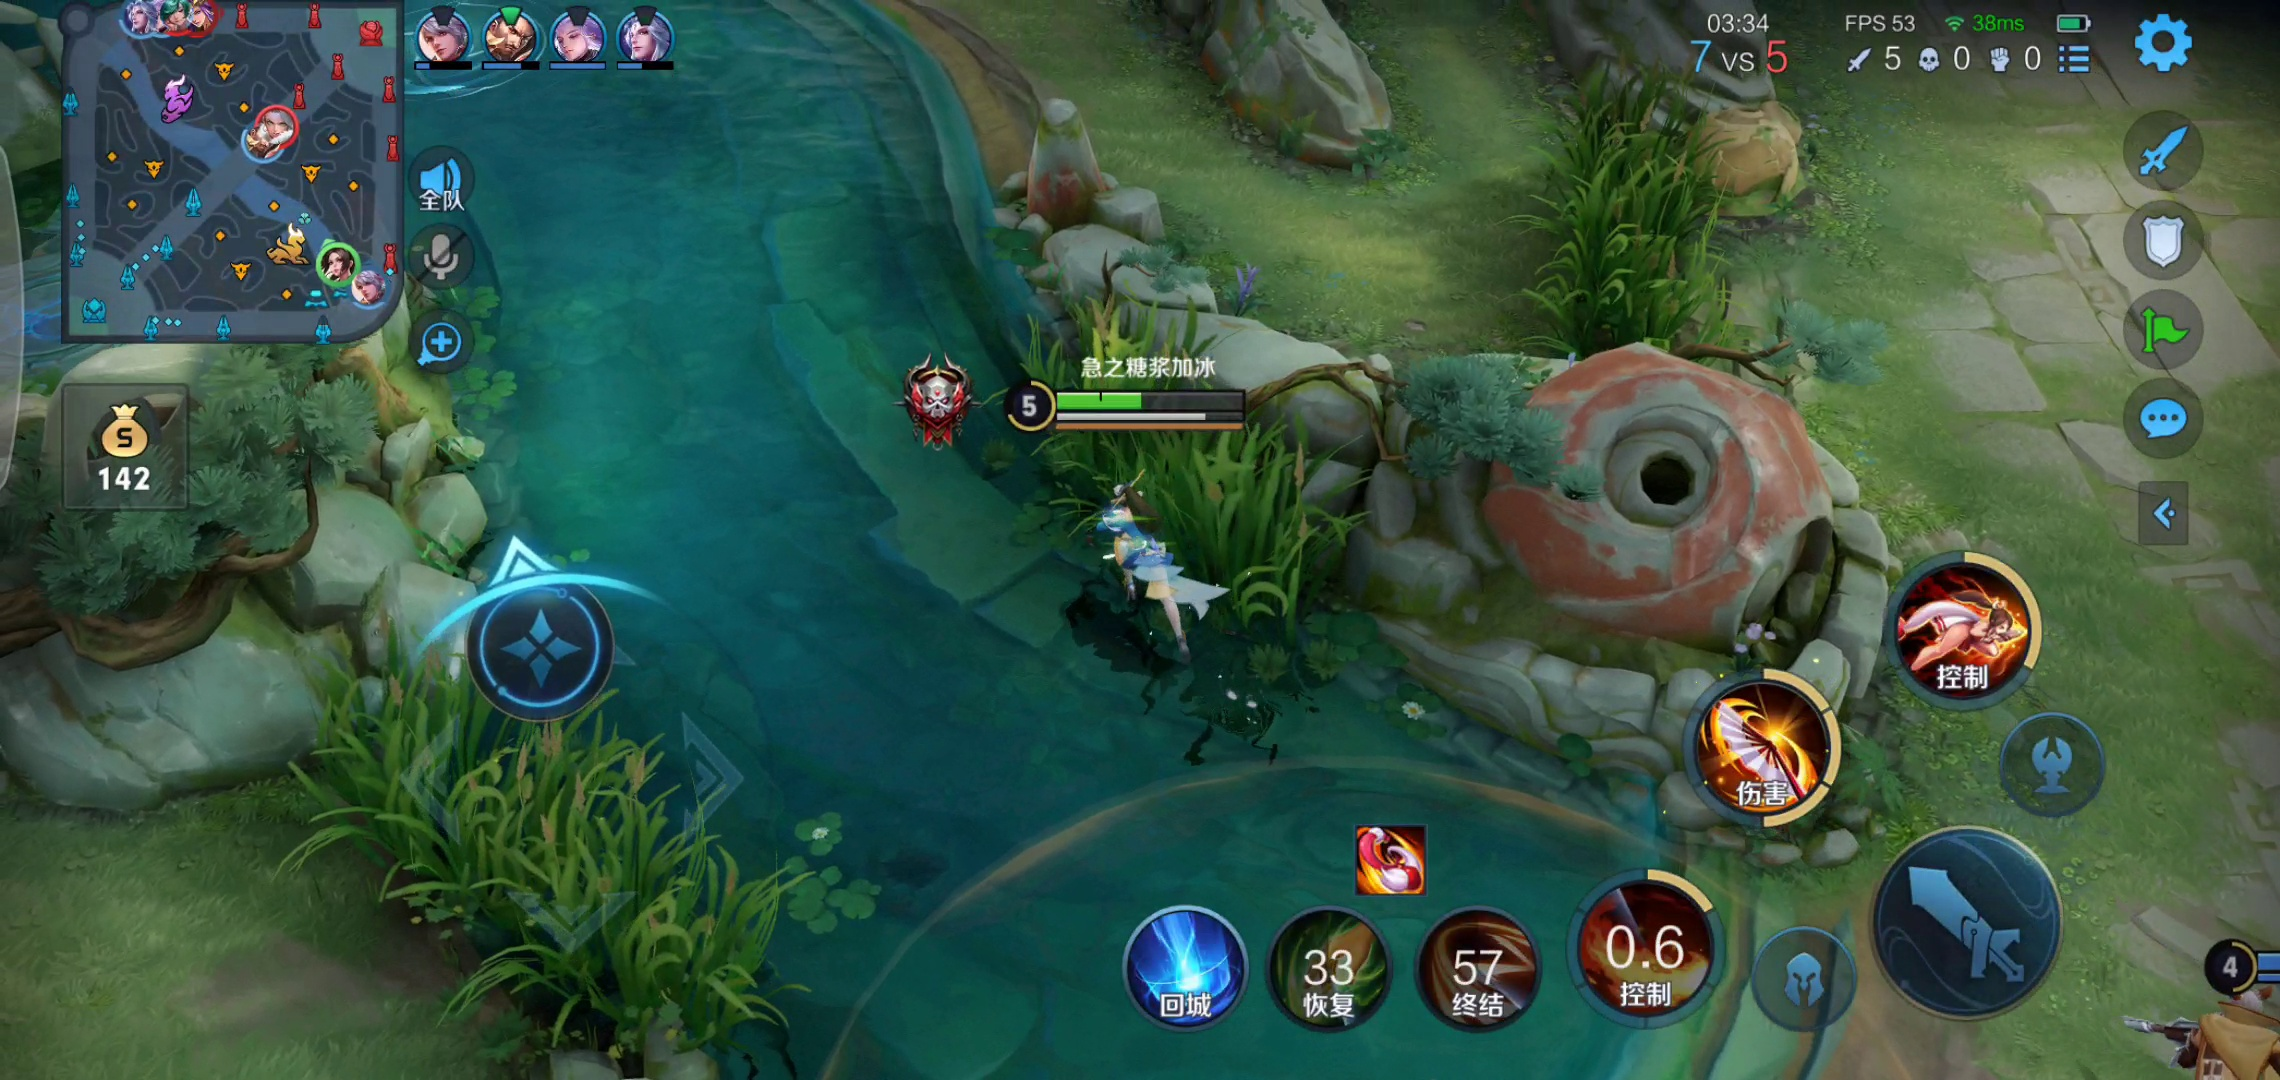grass: (305, 645, 774, 1052), (1038, 334, 1338, 635), (1509, 73, 1749, 362)
hero: (1082, 485, 1204, 651)
